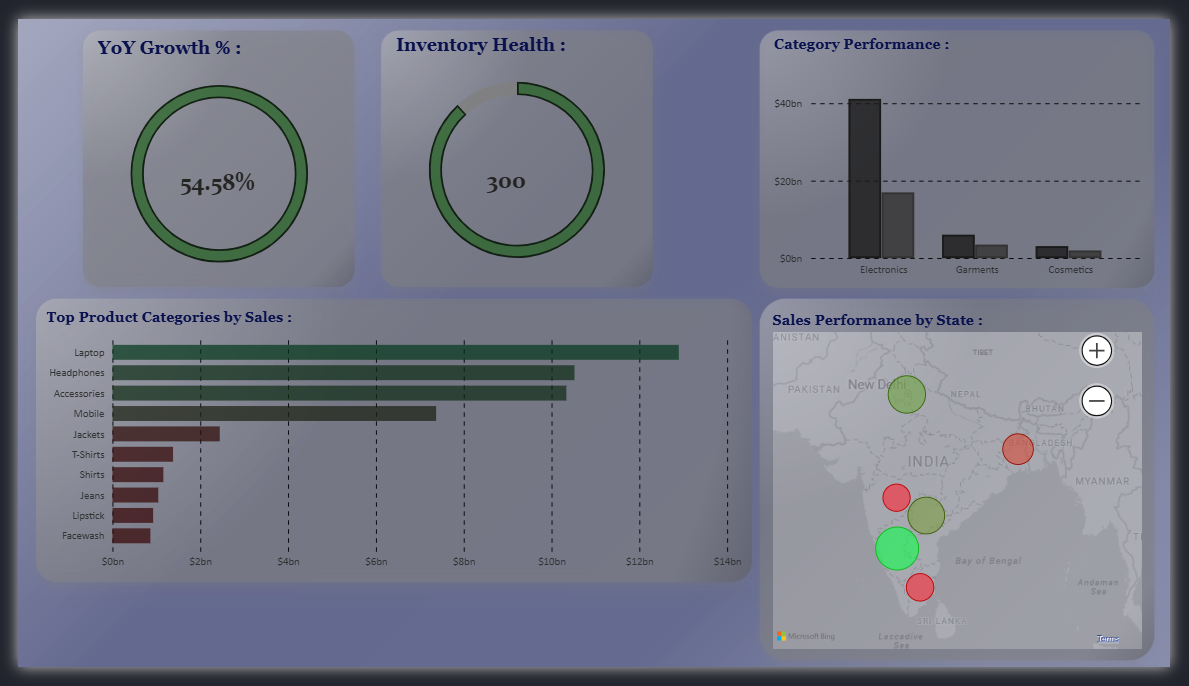

This screenshot's page, from the dashboard's own definition file:
{"tool":"powerbi","page":{"name":"Sales Performance Overview :-","canvas":[1280,720],"ordinal":2},"visuals":[{"type":"group","id":"g1","title":"All Visuals","box":[26,18,1228,686],"z":0},{"type":"group","id":"g2","title":"YoY Growth Visual ","box":[84,20,280,280],"z":0,"group":"g3"},{"type":"actionButton","box":[14.6,22.8,79.7,79.7],"z":0,"group":"g6"},{"type":"card","fields":{"Values":["MyMeasure.SKUs Critical Risk"]},"box":[444,127.5,198,100],"z":0,"group":"g4"},{"type":"card","fields":{"Values":["MyMeasure.YoY Growth %"]},"box":[122.3,131.5,199.3,97.5],"z":0,"group":"g2"},{"type":"map","title":"Sales Performance by State :","fields":{"Category":["dim_stores.state"],"Size":["MyMeasure.Total Sales"]},"box":[832,324,420,380],"z":0,"group":"g1"},{"type":"actionButton","box":[14.1,619.7,79.7,79.7],"z":0,"group":"g5"},{"type":"group","id":"g3","title":"KPIs","box":[84,16,610,284],"z":1000},{"type":"group","id":"g4","title":"Inventory Visual","box":[416,16,278,278],"z":1000,"group":"g3"},{"type":"donutChart","title":"Inventory Health :","fields":{"Category":["Total Sales Visual.Type"],"Y":["MyMeasure.Inventory Donut Value"]},"box":[416,16,278,278],"z":1000,"group":"g4"},{"type":"clusteredColumnChart","title":"Category Performance :","fields":{"Category":["dim_products.category"],"Y":["MyMeasure.Total Sales","MyMeasure.Total Profit"]},"box":[834,18,420,276],"z":1000,"group":"g1"},{"type":"donutChart","title":"YoY Growth % :","fields":{"Category":["Total Sales Visual.Type"],"Y":["MyMeasure.YoY Donut Value"]},"box":[84,20,280,280],"z":1000,"group":"g2"},{"type":"actionButton","box":[15.1,135,79.7,79.7],"z":1000,"group":"g6"},{"type":"actionButton","box":[108.4,619.7,79.7,79.7],"z":1000,"group":"g5"},{"type":"group","id":"g5","title":"All Buttons ","box":[14.1,22.8,174,676.6],"z":2000},{"type":"group","id":"g6","title":"Filter + Home Button","box":[14.6,22.8,80.2,191.9],"z":2000,"group":"g5"},{"type":"clusteredBarChart","title":"Top Product Categories by Sales :","fields":{"Category":["dim_products.sub_category"],"Y":["MyMeasure.Total Sales"]},"box":[26,322,782,298],"z":2000,"group":"g1"}]}

Visuals, with their boxes in screenshot pixels (x1, y1, x2, y2), scaled from the page's 1280x720 canvas onto the 1189x686 screenshot:
"All Visuals" group: Rect(24, 17, 1165, 671)
"YoY Growth Visual " group: Rect(78, 19, 338, 286)
actionButton: Rect(14, 22, 88, 98)
card - MyMeasure.SKUs Critical Risk: Rect(412, 121, 596, 217)
card - MyMeasure.YoY Growth %: Rect(114, 125, 299, 218)
"Sales Performance by State :" map: Rect(773, 309, 1163, 671)
actionButton: Rect(13, 590, 87, 666)
"KPIs" group: Rect(78, 15, 645, 286)
"Inventory Visual" group: Rect(386, 15, 645, 280)
"Inventory Health :" donutChart: Rect(386, 15, 645, 280)
"Category Performance :" clusteredColumnChart: Rect(775, 17, 1165, 280)
"YoY Growth % :" donutChart: Rect(78, 19, 338, 286)
actionButton: Rect(14, 129, 88, 205)
actionButton: Rect(101, 590, 175, 666)
"All Buttons " group: Rect(13, 22, 175, 666)
"Filter + Home Button" group: Rect(14, 22, 88, 205)
"Top Product Categories by Sales :" clusteredBarChart: Rect(24, 307, 751, 591)
